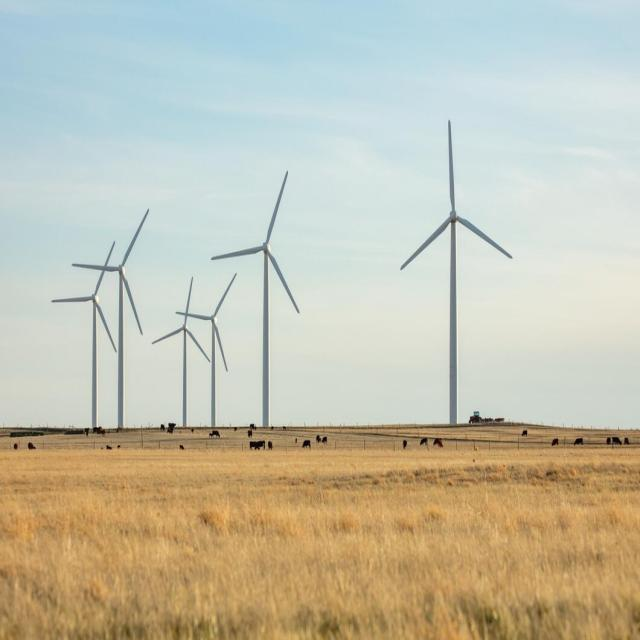wind-turbine: (401, 120, 512, 423), (212, 171, 299, 427), (72, 210, 148, 429), (152, 278, 210, 427)
